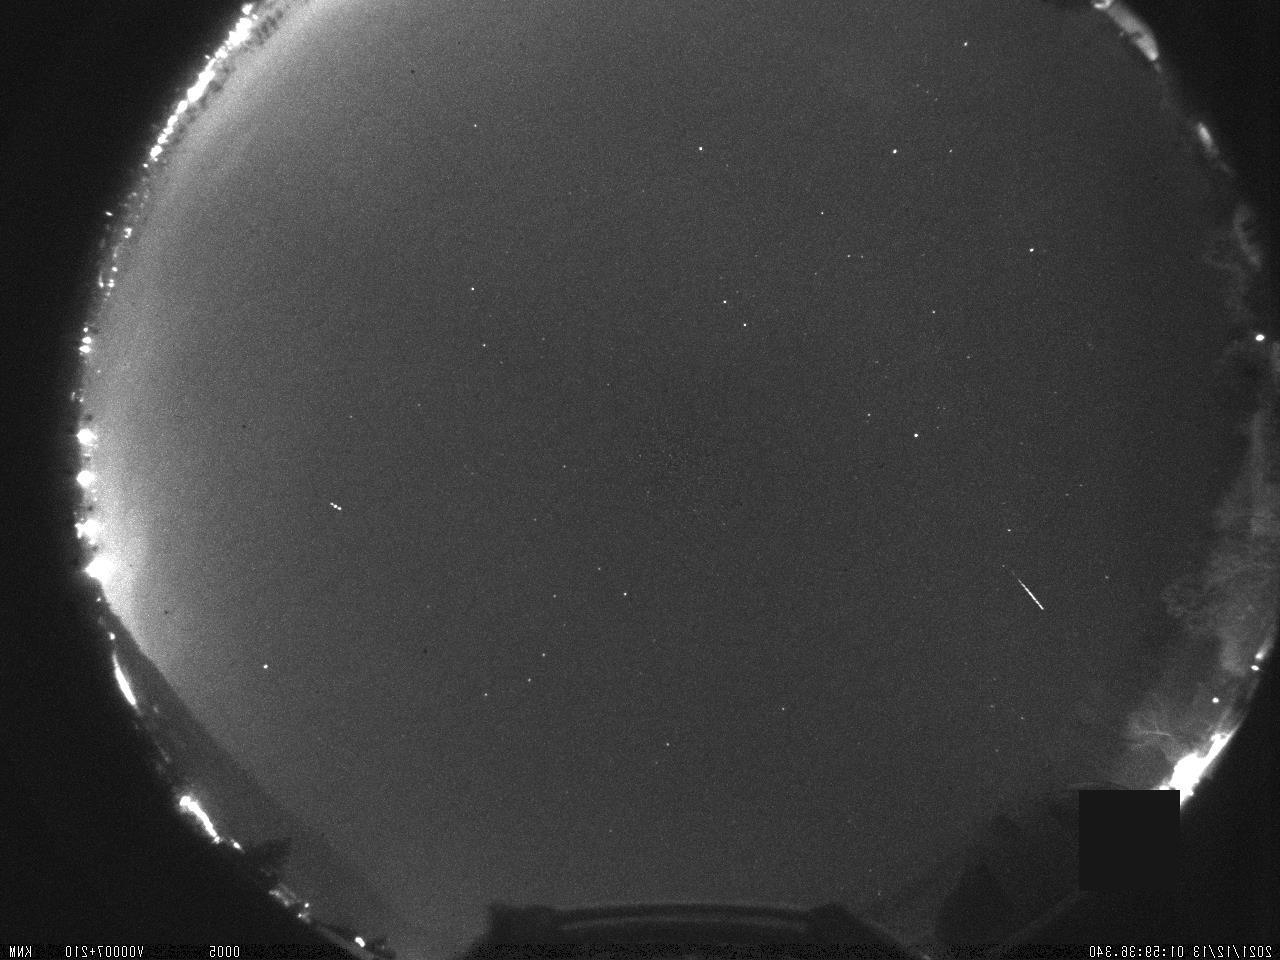meteor: (995, 556, 1054, 626)
